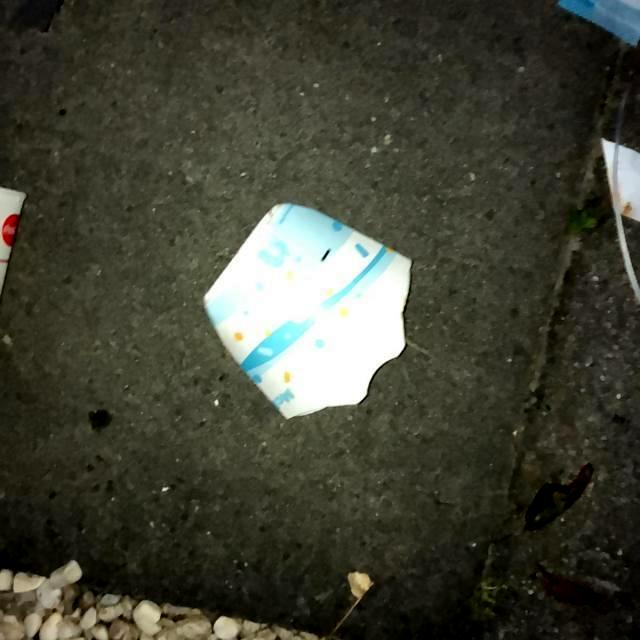Coffee Cup: (0, 182, 30, 298)
Paper: (197, 200, 415, 422)
